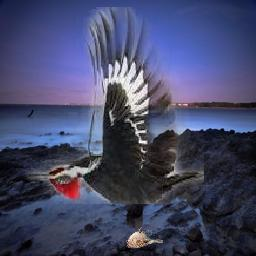Sparrow: (125, 228, 163, 249)
Woodpecker: (26, 8, 205, 205)
